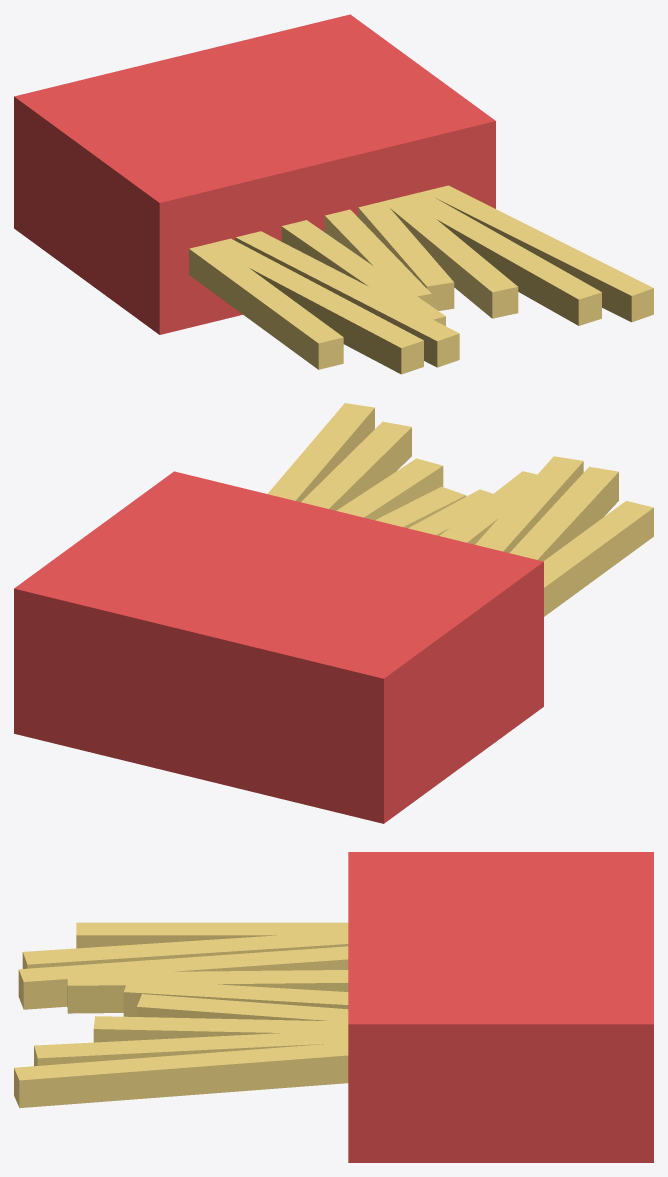
Rendered from fries.glb.
3 renders of one model, top to bottom at view 1: azimuth 30°, elevation 25°; view 2: azimuth 150°, elevation 25°; view 3: azimuth 270°, elevation 25°, orthographic. The views are drawn at different scales.
Parts seen in each view (by area): view 1: world; view 2: world; view 3: world.
Boxes of the visible parts, x1,y1,x2,y2 form: world: (14, 14, 653, 374); world: (14, 403, 653, 823); world: (14, 852, 653, 1162).
Size of the model in its own units: 1.2 by 0.48 by 1.88.
